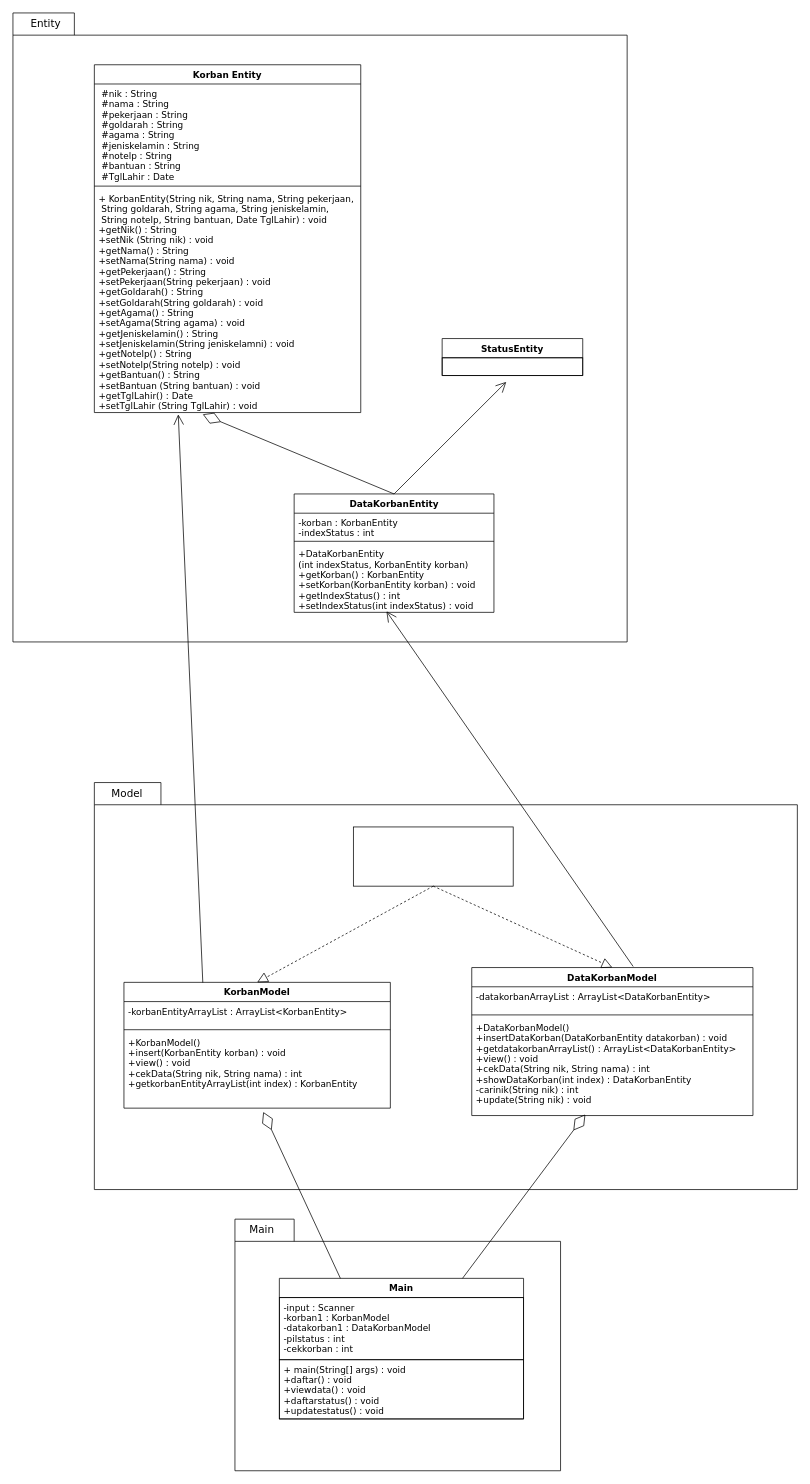
Image size: 810x1484. Some labels were removed from this diagram. Here are the shapes that lost their labels. From the top down, the box of each, then its label:
(441, 357, 583, 376): +status : String []
(353, 826, 513, 886): <<Interface>> Interfaces +view() : void +cekData(String nik, String nama) : int
